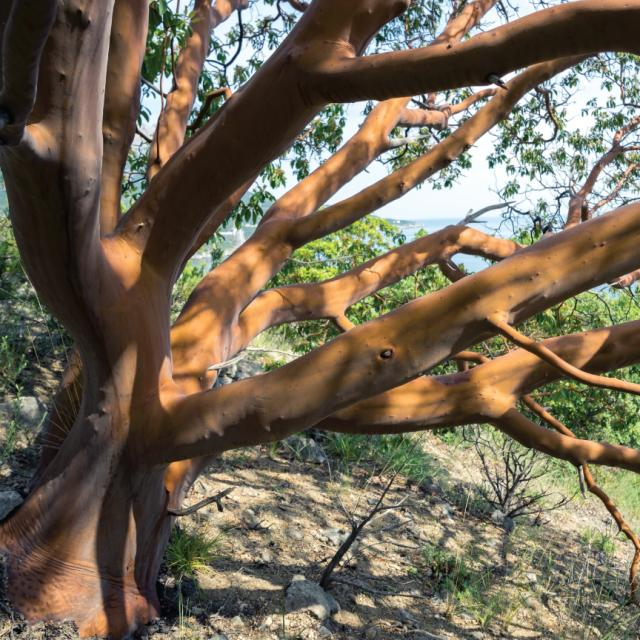Arbutus menziesii: (0, 0, 640, 617)
